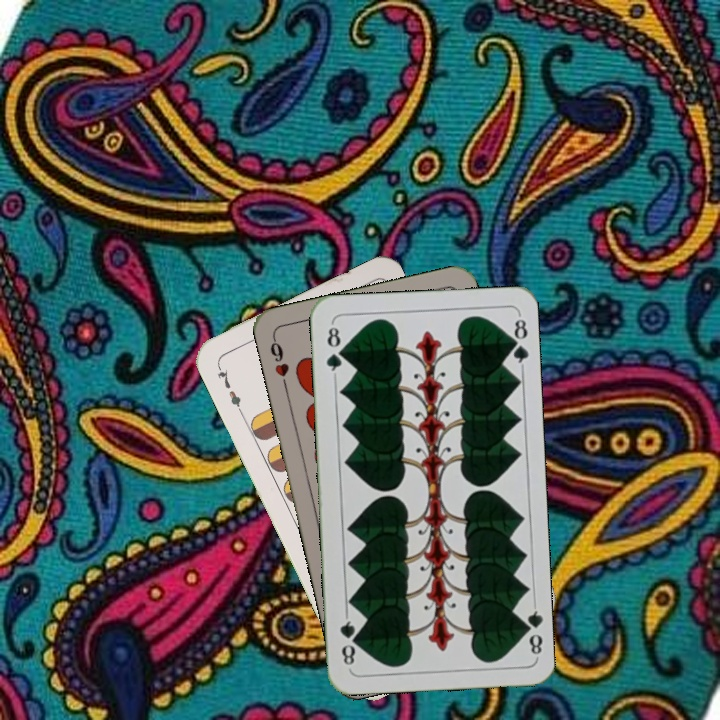E7: (212, 360, 245, 416)
G8: (517, 601, 545, 660), (322, 320, 346, 379)
H9: (266, 333, 292, 391)
